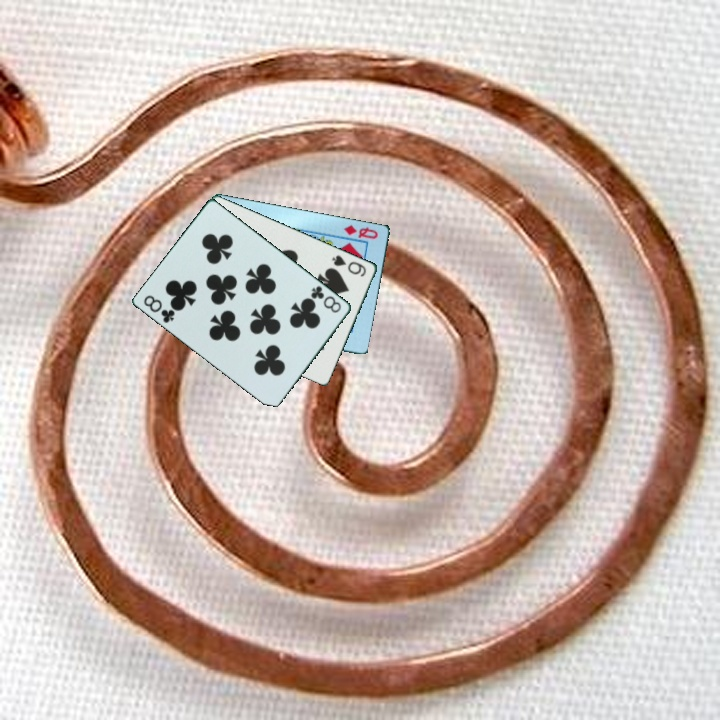6s: (328, 251, 369, 279)
8c: (140, 291, 178, 326), (308, 282, 345, 316)
Qd: (341, 221, 381, 242)
